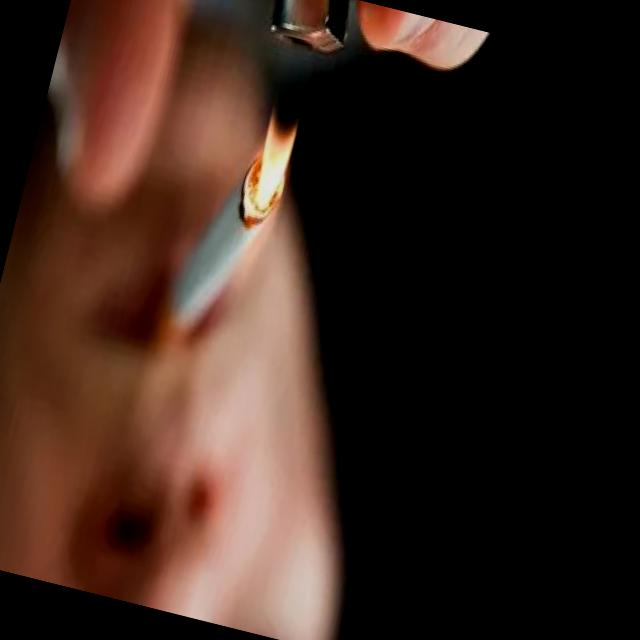cigarette: (142, 127, 298, 370)
